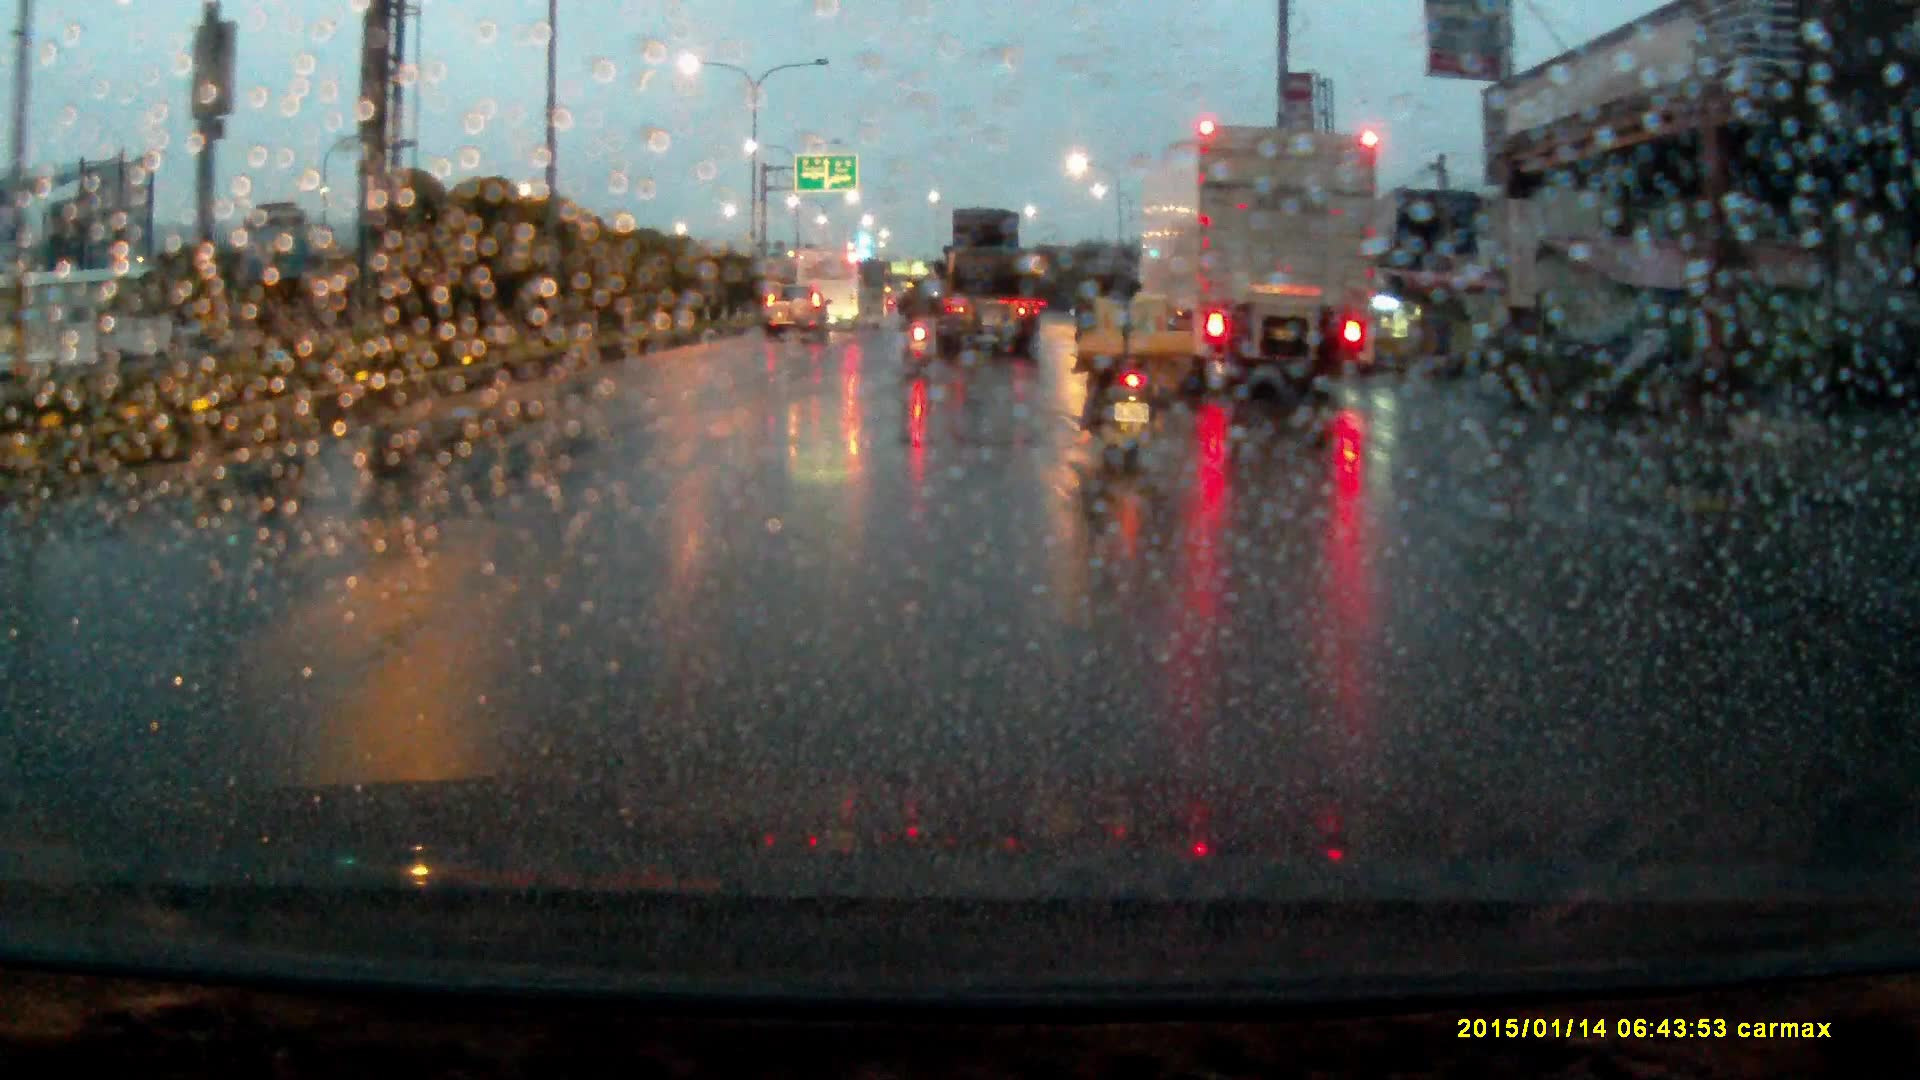rider: (1072, 253, 1170, 473), (900, 270, 940, 374)
vehicle: (1126, 121, 1379, 400), (936, 206, 1049, 365), (796, 248, 867, 331), (762, 285, 833, 350)
